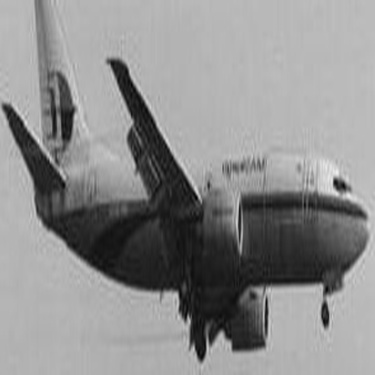airplane: (3, 1, 367, 365)
